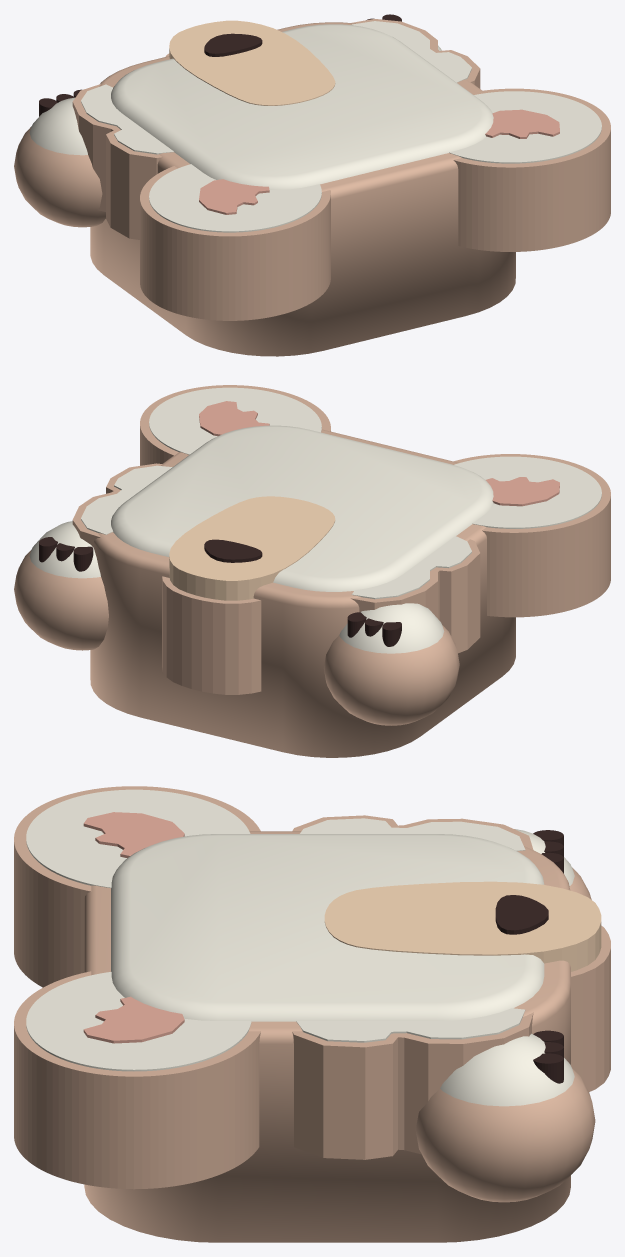
File: body_urso_polar.fbx
The picture shows the model from 3 angles, top to bottom: view 1: azimuth 30°, elevation 25°; view 2: azimuth 150°, elevation 25°; view 3: azimuth 270°, elevation 25°; orthographic projection. The views are drawn at different scales.
Visible parts, largest first — view 1: body_urso_polar_corpo, body_urso_polar_mao_esq; view 2: body_urso_polar_corpo, body_urso_polar_mao_esq, body_urso_polar_mao; view 3: body_urso_polar_corpo, body_urso_polar_mao, body_urso_polar_mao_esq.
Part boxes in pixels (x1=…): body_urso_polar_corpo: x1=72, y1=18, x2=610, y2=356; body_urso_polar_mao_esq: x1=14, y1=89, x2=105, y2=227; body_urso_polar_corpo: x1=72, y1=385, x2=610, y2=757; body_urso_polar_mao_esq: x1=324, y1=603, x2=459, y2=725; body_urso_polar_mao: x1=14, y1=521, x2=108, y2=650; body_urso_polar_corpo: x1=14, y1=786, x2=610, y2=1242; body_urso_polar_mao: x1=415, y1=1030, x2=595, y2=1202; body_urso_polar_mao_esq: x1=514, y1=829, x2=591, y2=899.
Size of the model in its own units: 5.65 by 2.06 by 4.9.
Materials: 1 (1 with a texture image).
